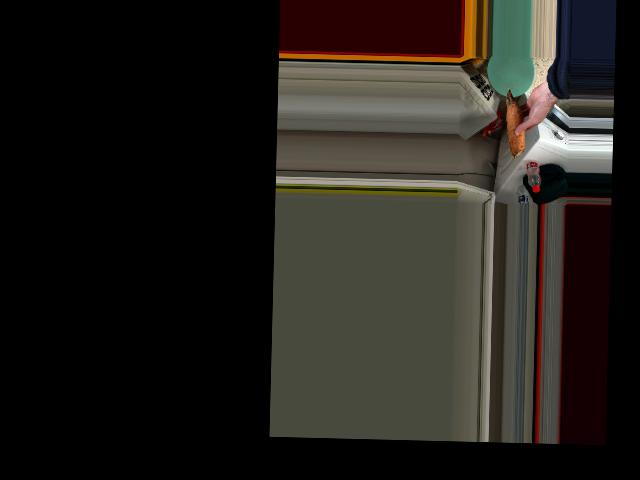sweet_potato: (503, 84, 523, 160)
